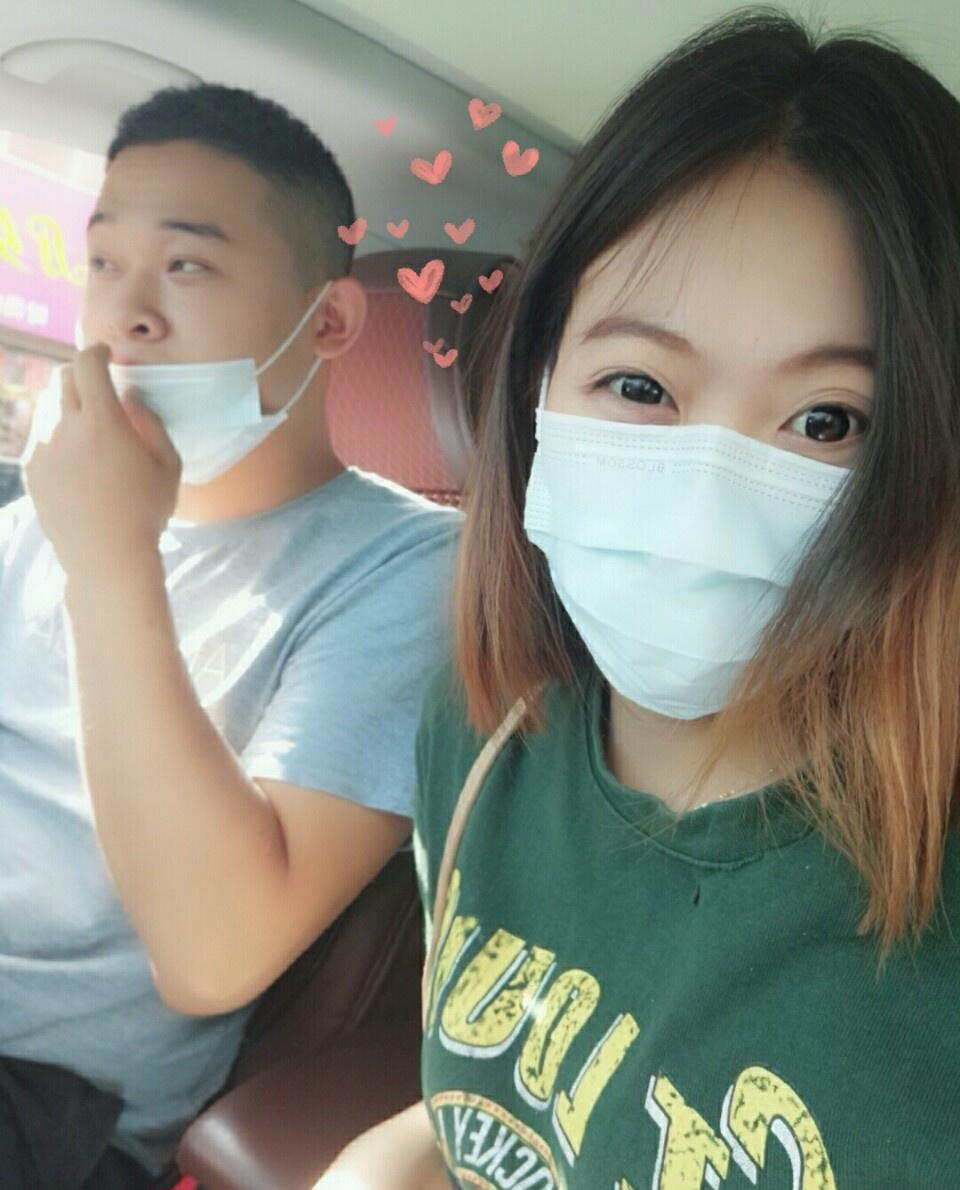OK: (518, 319, 906, 707)
WRONG: (84, 209, 327, 476)
